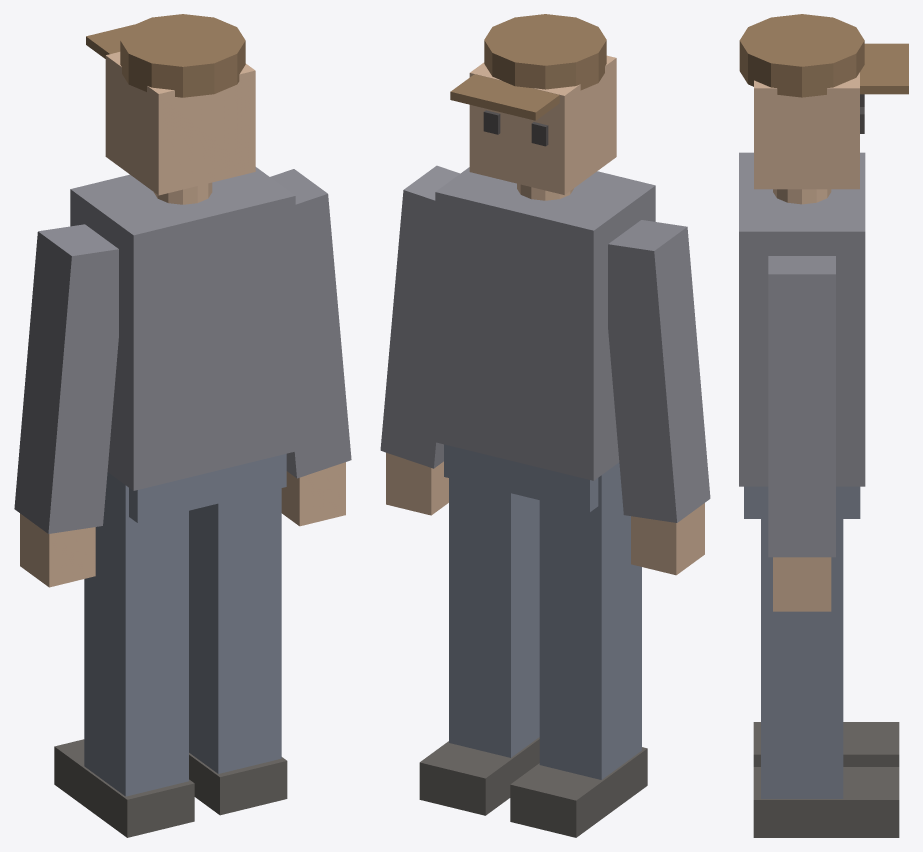
Rendered from civ_08.glb.
3 renders of one model, left to right at view 1: azimuth 30°, elevation 25°; view 2: azimuth 150°, elevation 25°; view 3: azimuth 270°, elevation 25°, orthographic. The views are drawn at different scales.
Parts seen in each view (by area): view 1: civ_08_torso, civ_08_leg_L, civ_08_arm_L, civ_08_leg_R, civ_08_head, civ_08_arm_R, civ_08_cap, civ_08_shoe_L, civ_08_pelvis, civ_08_shoe_R, civ_08_hand_L, civ_08_hand_R (+2 smaller); view 2: civ_08_torso, civ_08_leg_L, civ_08_arm_L, civ_08_leg_R, civ_08_arm_R, civ_08_head, civ_08_cap, civ_08_shoe_L, civ_08_shoe_R, civ_08_pelvis, civ_08_hand_L, civ_08_hand_R (+1 smaller); view 3: civ_08_torso, civ_08_arm_R, civ_08_leg_R, civ_08_head, civ_08_cap, civ_08_shoe_R, civ_08_hand_R, civ_08_shoe_L, civ_08_brim, civ_08_pelvis, civ_08_neck.
Part boxes in pixels (bbox=[...]): civ_08_torso: bbox=[70, 167, 295, 490]; civ_08_leg_L: bbox=[84, 472, 188, 796]; civ_08_arm_L: bbox=[14, 224, 118, 533]; civ_08_leg_R: bbox=[189, 488, 281, 773]; civ_08_head: bbox=[105, 52, 255, 195]; civ_08_arm_R: bbox=[270, 169, 351, 478]; civ_08_cap: bbox=[120, 14, 245, 97]; civ_08_shoe_L: bbox=[54, 739, 194, 837]; civ_08_pelvis: bbox=[129, 453, 286, 522]; civ_08_shoe_R: bbox=[189, 753, 287, 815]; civ_08_hand_L: bbox=[20, 513, 95, 587]; civ_08_hand_R: bbox=[281, 462, 345, 526]; civ_08_torso: bbox=[435, 167, 655, 480]; civ_08_leg_L: bbox=[539, 462, 641, 779]; civ_08_arm_L: bbox=[608, 220, 710, 522]; civ_08_leg_R: bbox=[449, 478, 539, 757]; civ_08_arm_R: bbox=[380, 165, 459, 468]; civ_08_head: bbox=[469, 55, 616, 194]; civ_08_cap: bbox=[484, 14, 606, 90]; civ_08_shoe_L: bbox=[510, 747, 647, 837]; civ_08_shoe_R: bbox=[419, 737, 539, 815]; civ_08_pelvis: bbox=[444, 444, 598, 512]; civ_08_hand_L: bbox=[631, 503, 704, 575]; civ_08_hand_R: bbox=[386, 452, 448, 515]; civ_08_torso: bbox=[739, 152, 865, 486]; civ_08_arm_R: bbox=[768, 256, 835, 557]; civ_08_leg_R: bbox=[761, 486, 843, 798]; civ_08_head: bbox=[754, 72, 859, 189]; civ_08_cap: bbox=[739, 14, 864, 97]; civ_08_shoe_R: bbox=[753, 767, 899, 837]; civ_08_hand_R: bbox=[773, 557, 831, 611]; civ_08_shoe_L: bbox=[753, 722, 899, 766]; civ_08_brim: bbox=[860, 43, 908, 94]; civ_08_pelvis: bbox=[744, 486, 860, 518]; civ_08_neck: bbox=[773, 189, 831, 204].
Bounding box in the file's own units: 0.7486 × 1.79 × 0.364.
